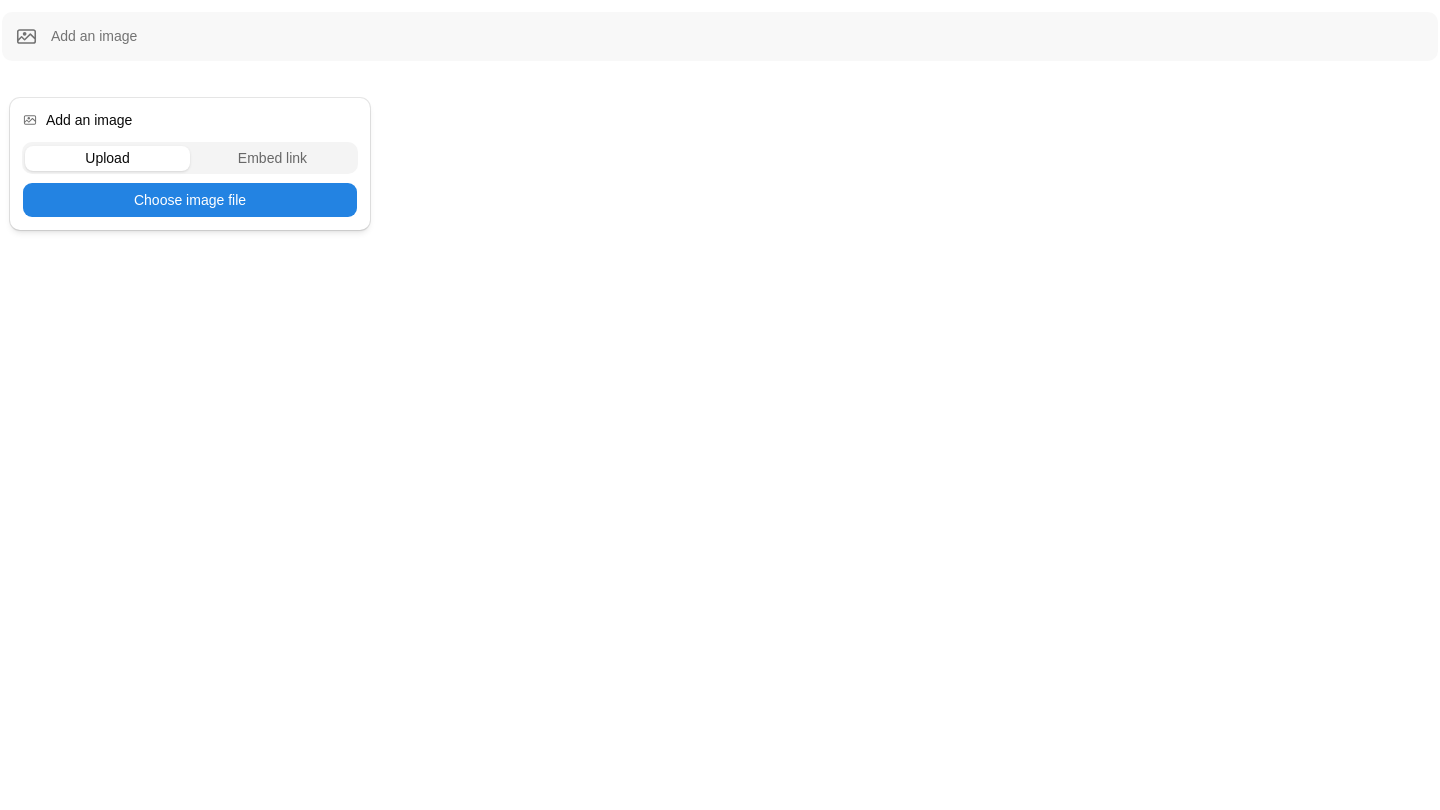
ImageEmptyPopover › preserves URL draft while switching tabs
Expected: the tab "Upload" is shown, [25,146,190,170]
Press the mouse on the tab "Embed link" at (272, 158), box [190,146,355,170]
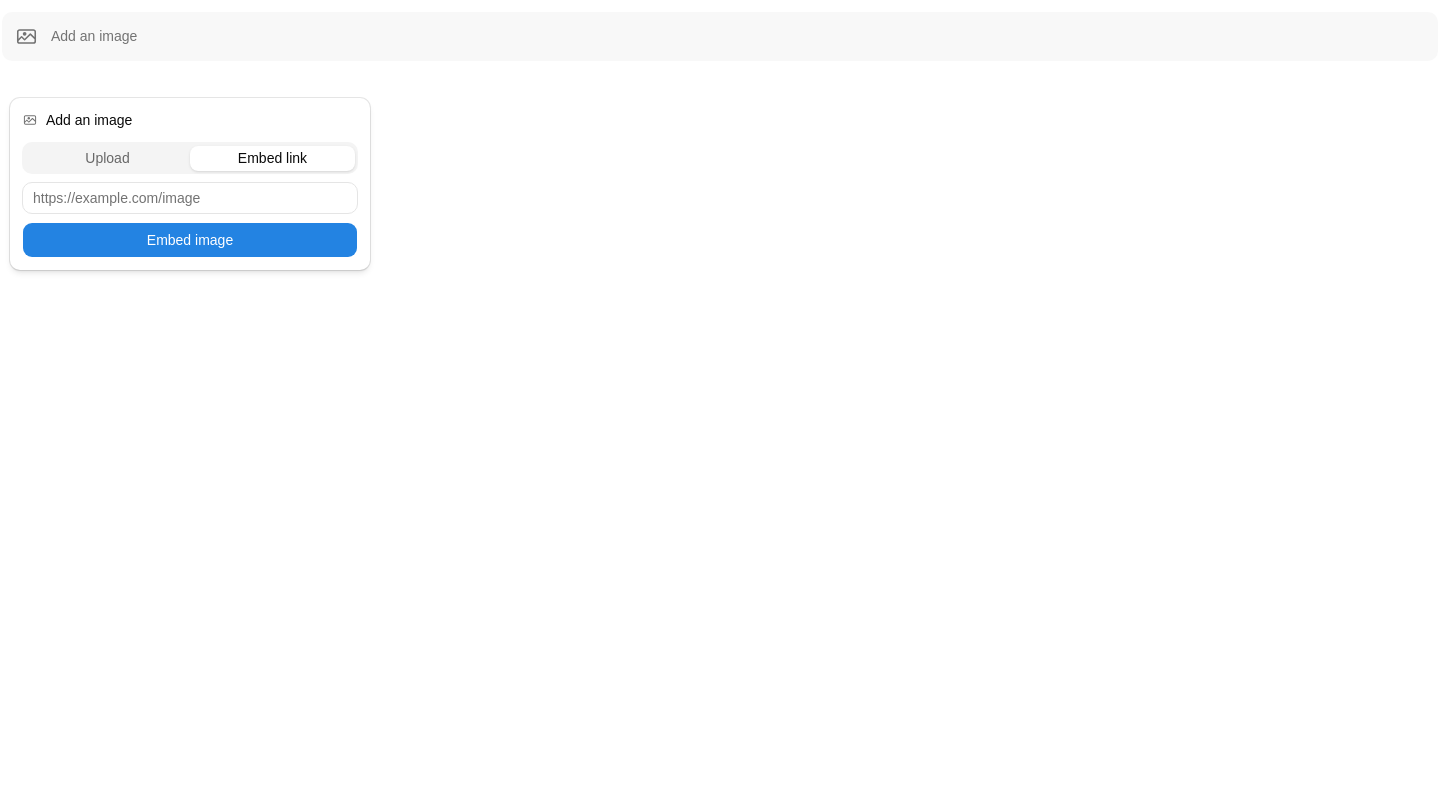
Type "https://example.com/draft.png" into the field named "Image URL" at (190, 198), box [22,182,358,214]
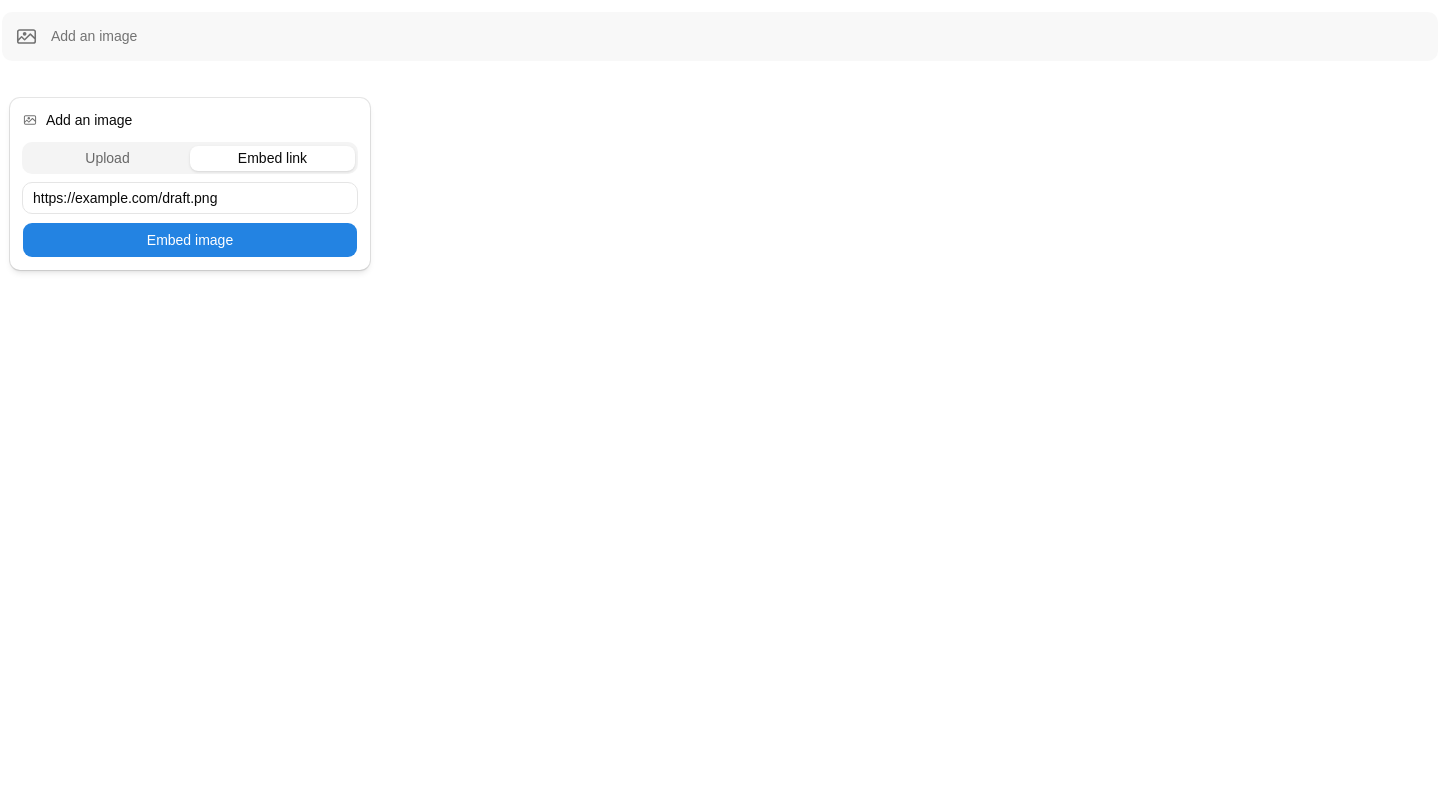
Press the mouse on the tab "Upload" at (108, 158), box [25,146,190,170]
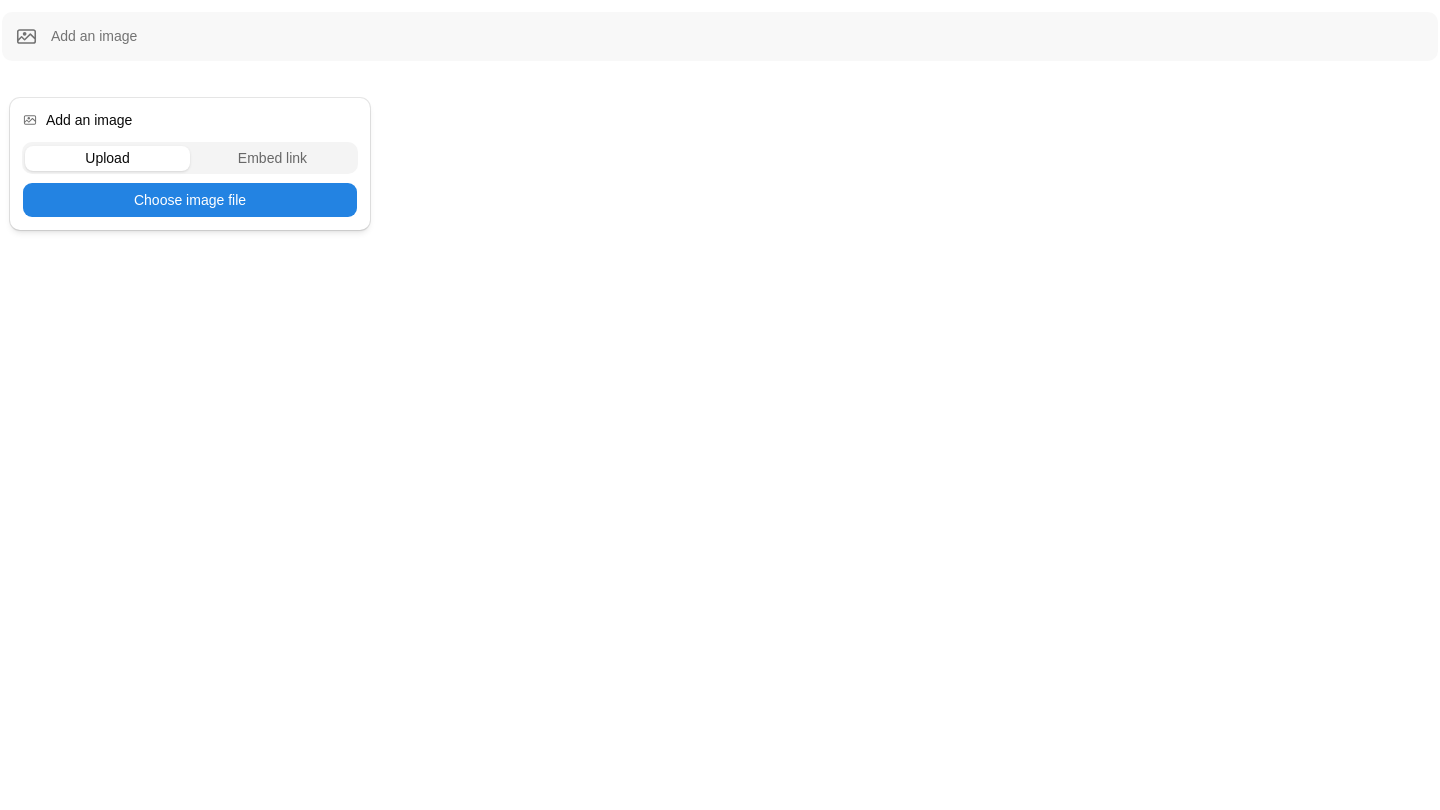
Press the mouse on the tab "Embed link" at (272, 158), box [190,146,355,170]
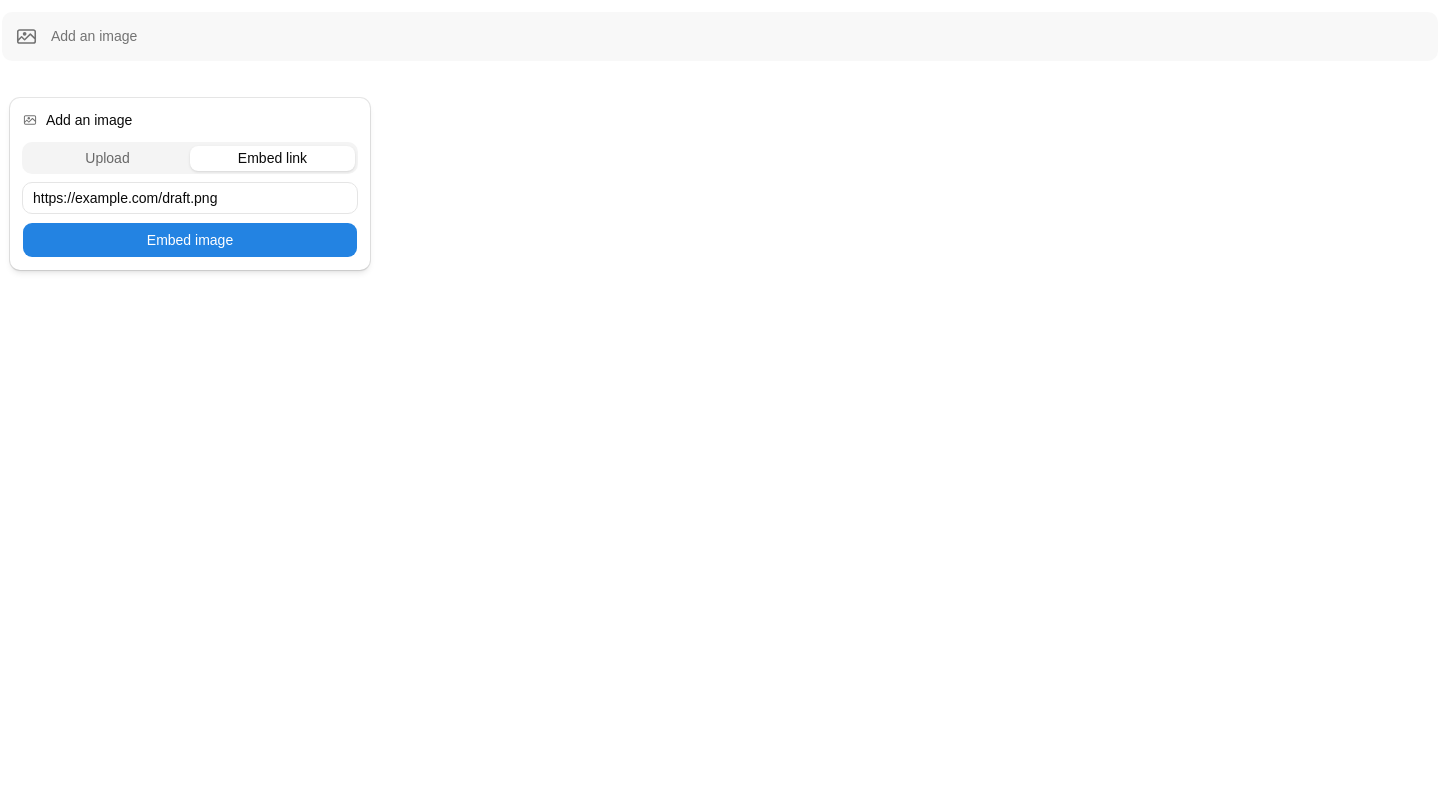
Expected: the field named "Image URL" holds "https://example.com/draft.png", [22,182,358,214]
